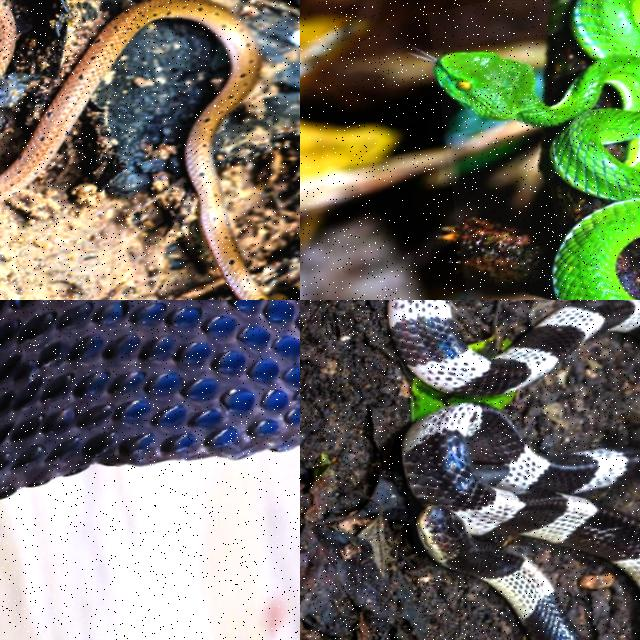Bungarus candidus: (402, 402, 639, 639)
Calliophis maculiceps: (0, 0, 299, 299)
Ophiophagus hannah: (0, 300, 299, 497)
Trimeresurus: (434, 0, 639, 299)
